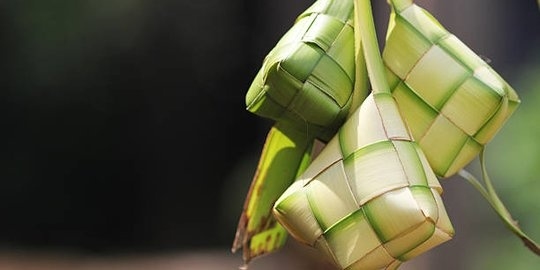ketupat: (271, 91, 455, 270)
